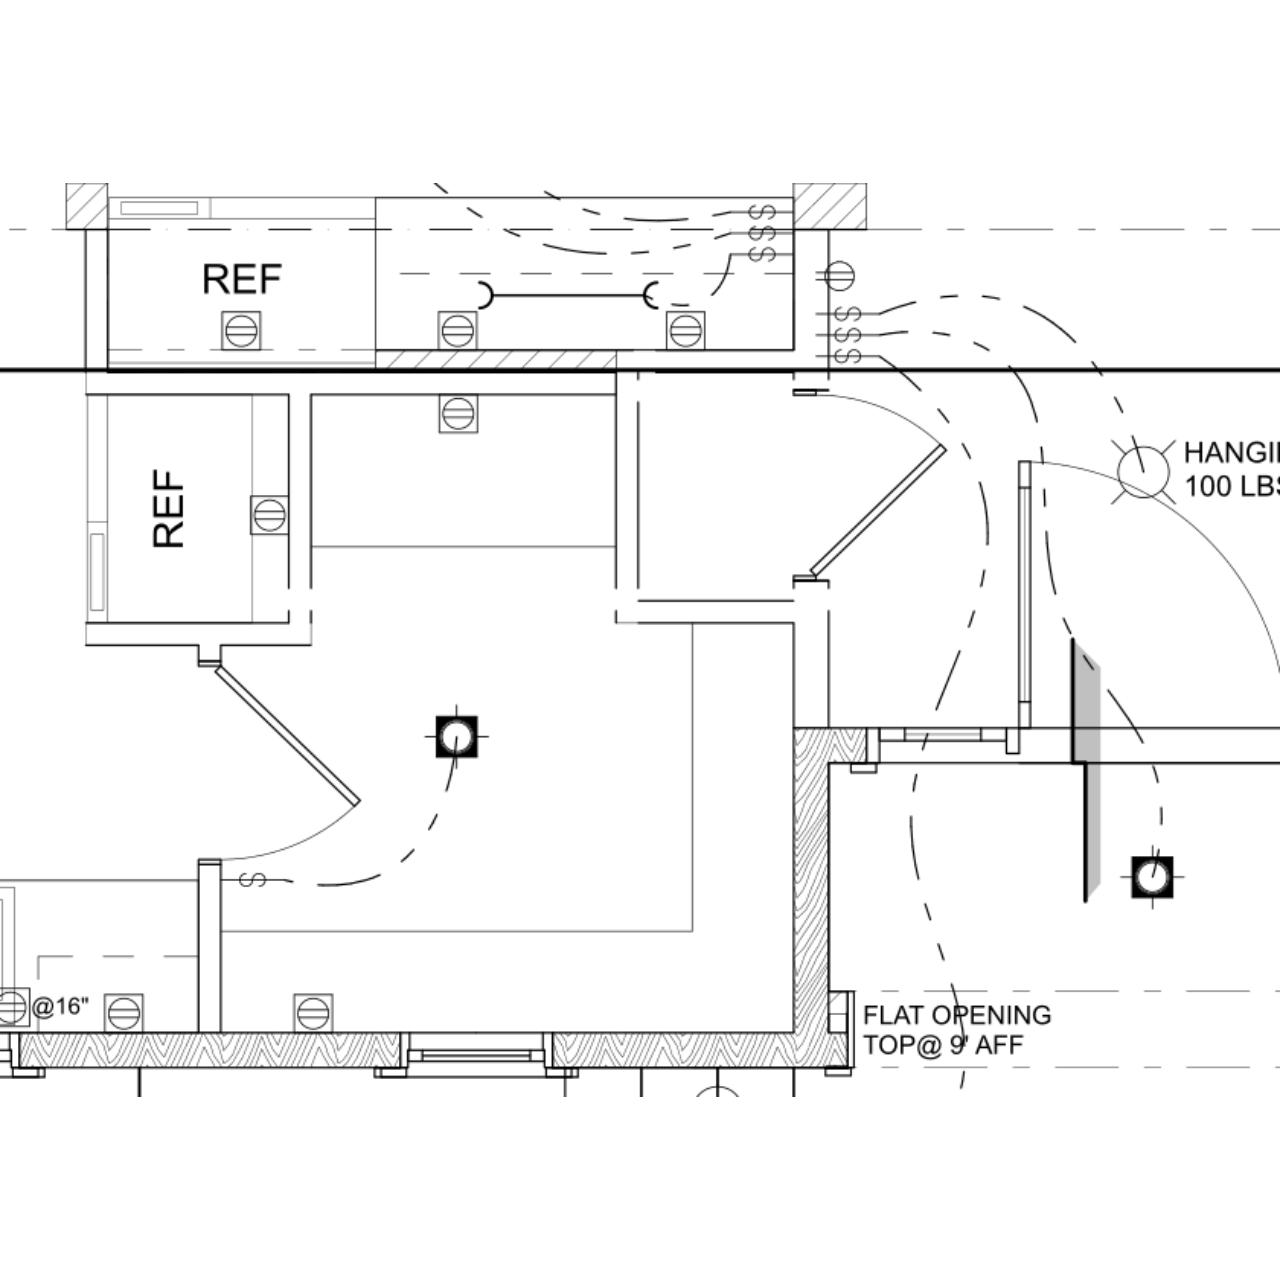Ceiling Light: (1110, 437, 1182, 505), (674, 1067, 760, 1097)
Duplex Outlet: (816, 261, 855, 291)
GFCIOutlet: (440, 393, 477, 431), (223, 312, 259, 350), (667, 312, 704, 348), (252, 497, 288, 533), (104, 995, 142, 1030), (0, 985, 30, 1027), (440, 313, 475, 348), (295, 996, 333, 1029)
Switch: (222, 872, 286, 892), (830, 347, 880, 367), (742, 202, 792, 220), (741, 245, 785, 266), (829, 327, 877, 346), (744, 220, 782, 239), (835, 305, 862, 324)
ress_can_light: (423, 702, 489, 769), (1121, 844, 1184, 910)
